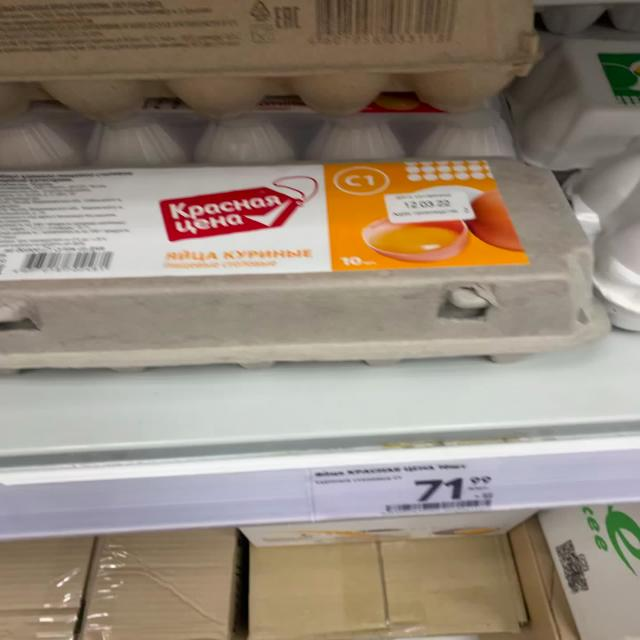egg box: (4, 154, 608, 376)
